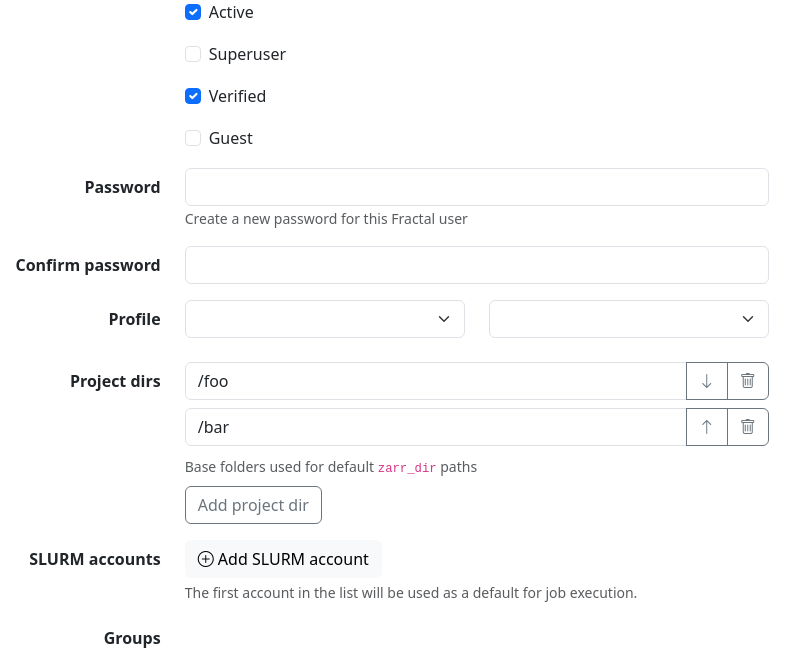
Test: UserEditor › Update settings - remove project dir
Click the 2nd button named "Remove project dir" at point(748, 427), box [727, 408, 769, 446]
(page scrolled)
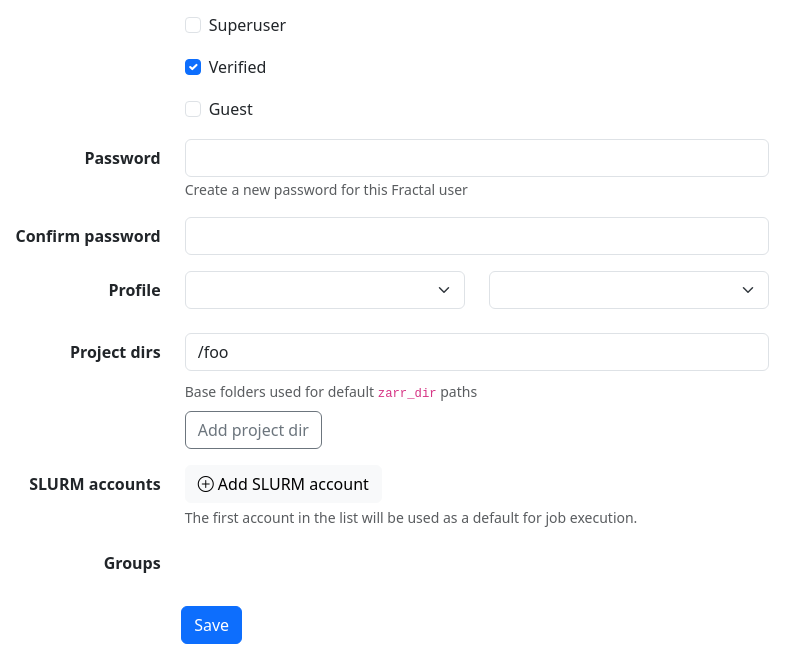
Click the button "Save" at point(212, 625), box [181, 606, 242, 644]
(page scrolled)
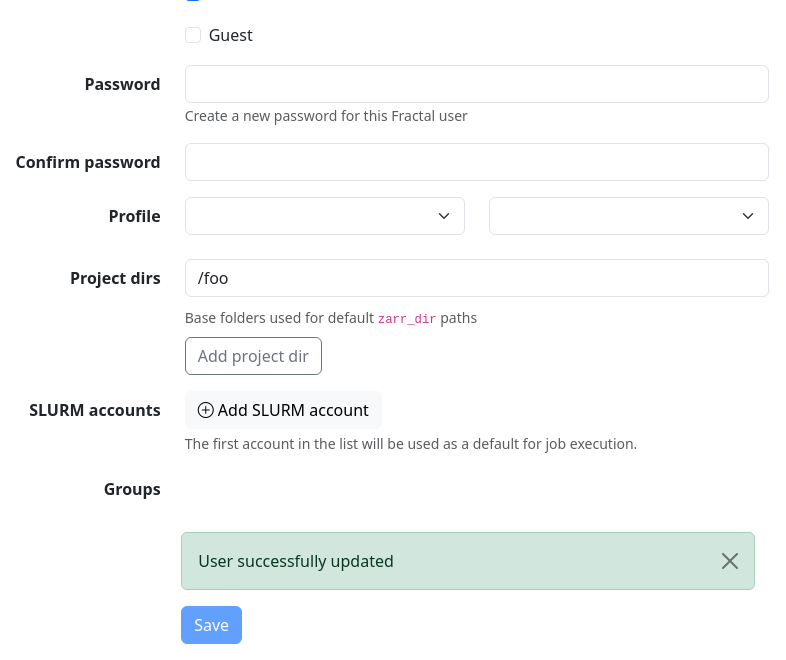
Expected: the text "User successfully updated" is shown, [181, 532, 755, 590]
